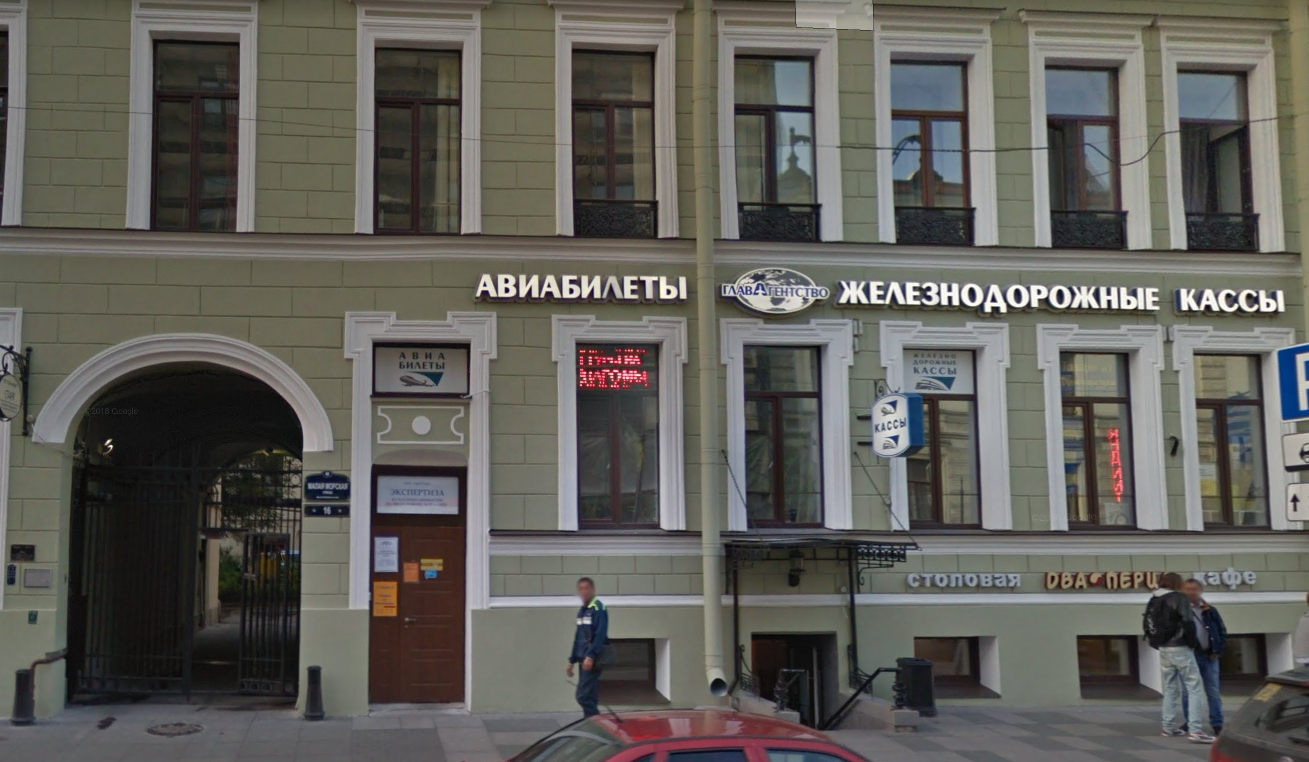arch: (56, 340, 313, 715)
cantilever: (856, 371, 921, 471)
door: (367, 466, 462, 696)
signboard: (713, 256, 1303, 334), (467, 260, 691, 310), (903, 563, 1036, 596), (1040, 564, 1160, 594)
win_ad: (373, 344, 471, 395)
window: (731, 54, 821, 242), (889, 53, 979, 241), (573, 51, 665, 229), (579, 343, 663, 536), (1055, 344, 1139, 531), (1046, 59, 1129, 247), (1177, 63, 1257, 254), (903, 343, 983, 534), (153, 37, 232, 226), (745, 343, 825, 529), (380, 49, 456, 233), (1195, 355, 1275, 529)
